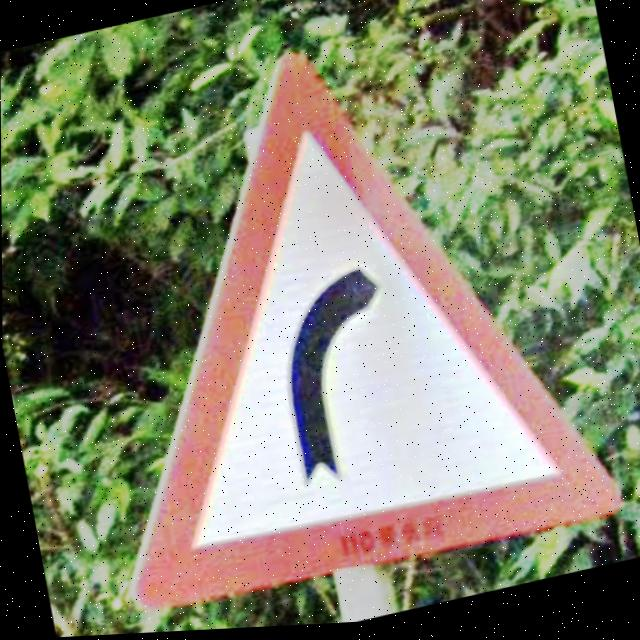rightbend: (132, 58, 621, 614)
